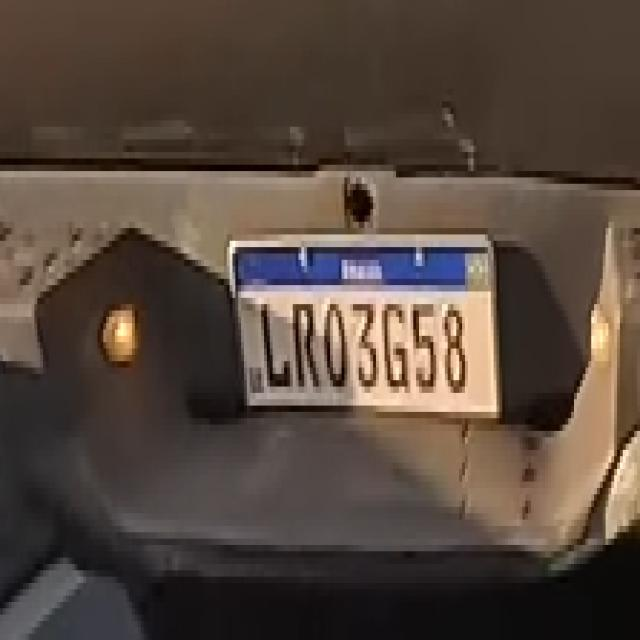Placa_mercosul_carro: (229, 231, 502, 419)
